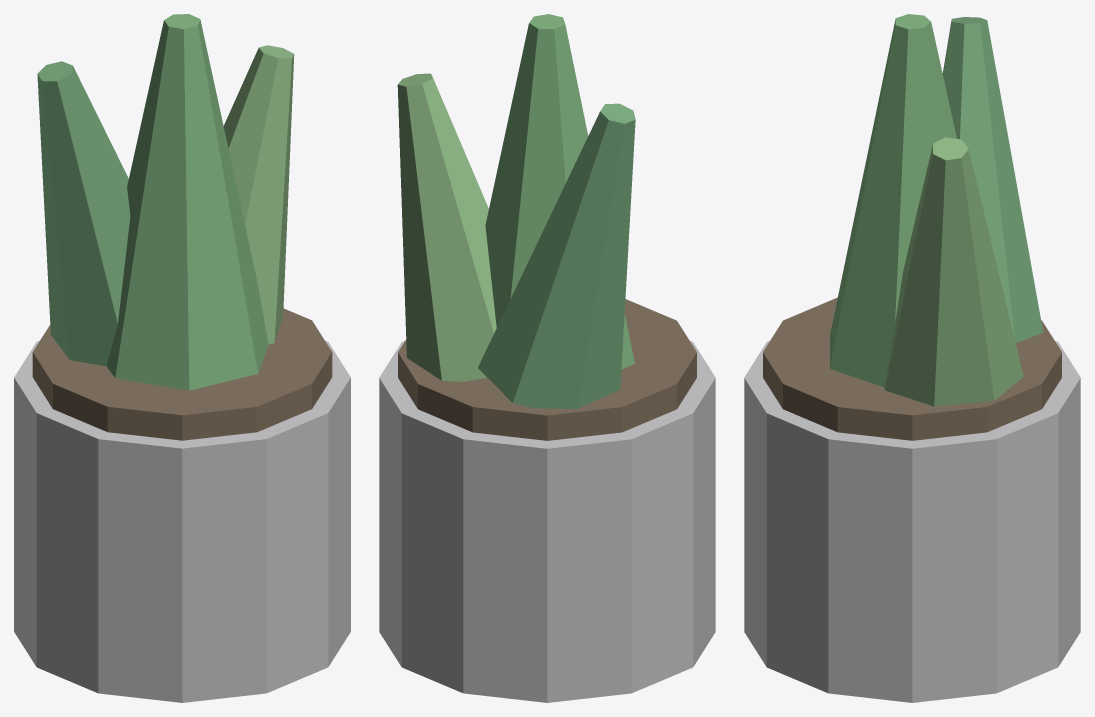
Rendered from kit_planta_temperos.glb.
The picture shows the model from 3 angles, left to right: view 1: azimuth 30°, elevation 25°; view 2: azimuth 150°, elevation 25°; view 3: azimuth 270°, elevation 25°; orthographic projection.
Parts seen in each view (by area): view 1: KIT_Planta_Temperos_v01; view 2: KIT_Planta_Temperos_v01; view 3: KIT_Planta_Temperos_v01.
Part boxes in pixels (x1=…): KIT_Planta_Temperos_v01: x1=14, y1=14, x2=350, y2=702; KIT_Planta_Temperos_v01: x1=379, y1=14, x2=715, y2=702; KIT_Planta_Temperos_v01: x1=744, y1=14, x2=1080, y2=702.
Bounding box in the file's own units: 0.18 × 0.36 × 0.18.
